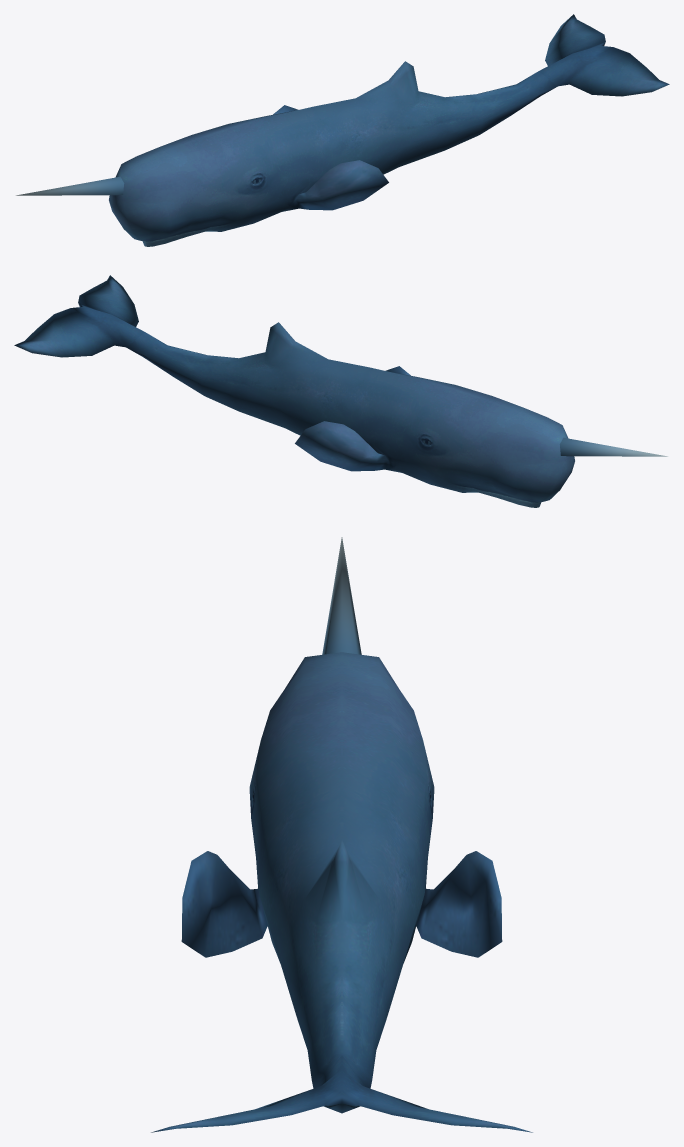
The model's file is f29_moxiangjing.FBX.
The picture shows the model from 3 angles, top to bottom: view 1: azimuth 30°, elevation 25°; view 2: azimuth 150°, elevation 25°; view 3: azimuth 270°, elevation 25°; orthographic projection. The views are drawn at different scales.
Visible parts, largest first — view 1: f29_moxiangjing; view 2: f29_moxiangjing; view 3: f29_moxiangjing.
Boxes of the visible parts, <box> form: f29_moxiangjing: <box>16,14,669,246</box>; f29_moxiangjing: <box>14,275,667,507</box>; f29_moxiangjing: <box>151,537,532,1132</box>.
Size of the model in its own units: 1161 by 227 by 318.
1 material, 1 textured.
